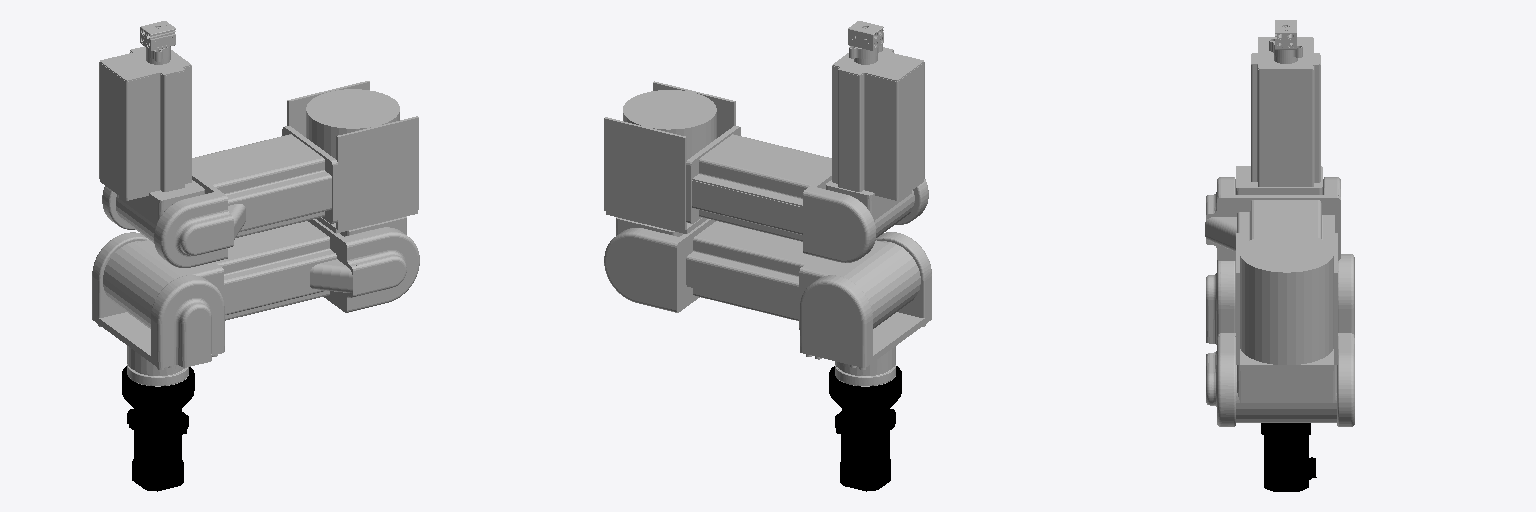
URDF robot description (cobod_arm_6dof):
<?xml version="1.0" encoding="utf-8"?>
<robot
  name="cobod_arm_6dof">
  <link
    name="Link_1">
    <visual>
      <origin
        xyz="0 0 0"
        rpy="0 0 0" />
      <geometry>
        <mesh
          filename="package://cobod_arm_study/meshes/cobod_arm_6DOF/Link_1.STL" />
      </geometry>
      <material
        name="">
        <color
          rgba="0 0 0 1" />
      </material>
    </visual>
    <collision>
      <origin
        xyz="0 0 0"
        rpy="0 0 0" />
      <geometry>
        <mesh
          filename="package://cobod_arm_study/meshes/cobod_arm_6DOF/Link_1.STL" />
      </geometry>
    </collision>
  </link>
  <link
    name="Link_2">
    <inertial>
      <origin
        xyz="-7.83279842325735E-06 -0.0127760100856397 0.118732654083756"
        rpy="0 0 0" />
      <mass
        value="7.36241775873832" />
      <inertia
        ixx="0.0334729981948421"
        ixy="1.15960581221495E-07"
        ixz="-3.25719911370062E-07"
        iyy="0.0318195208402152"
        iyz="-0.000113311466733358"
        izz="0.0380550573667268" />
    </inertial>
    <visual>
      <origin
        xyz="0 0 0"
        rpy="0 0 0" />
      <geometry>
        <mesh
          filename="package://cobod_arm_study/meshes/cobod_arm_6DOF/Link_2.STL" />
      </geometry>
      <material
        name="">
        <color
          rgba="0.752941176470588 0.752941176470588 0.752941176470588 1" />
      </material>
    </visual>
    <collision>
      <origin
        xyz="0 0 0"
        rpy="0 0 0" />
      <geometry>
        <mesh
          filename="package://cobod_arm_study/meshes/cobod_arm_6DOF/Link_2.STL" />
      </geometry>
    </collision>
  </link>
  <joint
    name="Joint_1"
    type="revolute">
    <origin
      xyz="0 0 0.3391"
      rpy="0 0 0" />
    <parent
      link="Link_1" />
    <child
      link="Link_2" />
    <axis
      xyz="0 0 1" />
    <limit
      lower="-3.14159"
      upper="3.14159"
      effort="30"
      velocity="1.0" />
  </joint>
  <link
    name="Link_3">
    <inertial>
      <origin
        xyz="0.23502 -0.0040139 7.212E-05"
        rpy="0 0 0" />
      <mass
        value="28.605" />
      <inertia
        ixx="0.22406"
        ixy="-0.00022136"
        ixz="1.9312E-07"
        iyy="0.22626"
        iyz="-0.00021886"
        izz="0.31856" />
    </inertial>
    <visual>
      <origin
        xyz="0 0 0"
        rpy="0 0 0" />
      <geometry>
        <mesh
          filename="package://cobod_arm_study/meshes/cobod_arm_6DOF/Link_3.STL" />
      </geometry>
      <material
        name="">
        <color
          rgba="0.75294 0.75294 0.75294 1" />
      </material>
    </visual>
    <collision>
      <origin
        xyz="0 0 0"
        rpy="0 0 0" />
      <geometry>
        <mesh
          filename="package://cobod_arm_study/meshes/cobod_arm_6DOF/Link_3.STL" />
      </geometry>
    </collision>
  </link>
  <joint
    name="Joint_2"
    type="revolute">
    <origin
      xyz="0 0 0.2005"
      rpy="0 0 0" />
    <parent
      link="Link_2" />
    <child
      link="Link_3" />
    <axis
      xyz="0 1 0" />
    <limit
      lower="-2.61799"
      upper="0"
      effort="10"
      velocity="1.0" />
  </joint>
  <link
    name="Link_4">
    <inertial>
      <origin
        xyz="-1.4591E-08 0.001966 0.013983"
        rpy="0 0 0" />
      <mass
        value="10.074" />
      <inertia
        ixx="0.11261"
        ixy="-4.6742E-08"
        ixz="-5.0482E-10"
        iyy="0.051007"
        iyz="6.8893E-09"
        izz="0.10897" />
    </inertial>
    <visual>
      <origin
        xyz="0 0 0"
        rpy="0 0 0" />
      <geometry>
        <mesh
          filename="package://cobod_arm_study/meshes/cobod_arm_6DOF/Link_4.STL" />
      </geometry>
      <material
        name="">
        <color
          rgba="0.75294 0.75294 0.75294 1" />
      </material>
    </visual>
    <collision>
      <origin
        xyz="0 0 0"
        rpy="0 0 0" />
      <geometry>
        <mesh
          filename="package://cobod_arm_study/meshes/cobod_arm_6DOF/Link_4.STL" />
      </geometry>
    </collision>
  </link>
  <joint
    name="Joint_3"
    type="revolute">
    <origin
      xyz="0.585 0 0"
      rpy="0 0 0" />
    <parent
      link="Link_3" />
    <child
      link="Link_4" />
    <axis
      xyz="0 1 0" />
    <limit
      lower="0"
      upper="3.14159"
      effort="8"
      velocity="1.0" />
  </joint>
  <link
    name="Link_5">
    <inertial>
      <origin
        xyz="-0.19694 -0.0075129 0.12929"
        rpy="0 0 0" />
      <mass
        value="32.009" />
      <inertia
        ixx="0.25201"
        ixy="0.00014911"
        ixz="-1.4091E-09"
        iyy="0.31685"
        iyz="0.00021879"
        izz="0.30494" />
    </inertial>
    <visual>
      <origin
        xyz="0 0 0"
        rpy="0 0 0" />
      <geometry>
        <mesh
          filename="package://cobod_arm_study/meshes/cobod_arm_6DOF/Link_5.STL" />
      </geometry>
      <material
        name="">
        <color
          rgba="0.75294 0.75294 0.75294 1" />
      </material>
    </visual>
    <collision>
      <origin
        xyz="0 0 0"
        rpy="0 0 0" />
      <geometry>
        <mesh
          filename="package://cobod_arm_study/meshes/cobod_arm_6DOF/Link_5.STL" />
      </geometry>
    </collision>
  </link>
  <joint
    name="Joint_4"
    type="revolute">
    <origin
      xyz="0 0.0019673 0.107"
      rpy="0 0 0" />
    <parent
      link="Link_4" />
    <child
      link="Link_5" />
    <axis
      xyz="0 0 1" />
    <limit
      lower="-3.14159"
      upper="3.14159"
      effort="6"
      velocity="1.0" />
  </joint>
  <link
    name="Link_6">
    <inertial>
      <origin
        xyz="-0.0225 -0.0092568 0.17444"
        rpy="0 0 0" />
      <mass
        value="16.529" />
      <inertia
        ixx="0.16805"
        ixy="-2.3455E-05"
        ixz="1.2694E-09"
        iyy="0.14815"
        iyz="-7.2441E-09"
        izz="0.10397" />
    </inertial>
    <visual>
      <origin
        xyz="0 0 0"
        rpy="0 0 0" />
      <geometry>
        <mesh
          filename="package://cobod_arm_study/meshes/cobod_arm_6DOF/Link_6.STL" />
      </geometry>
      <material
        name="">
        <color
          rgba="0.75294 0.75294 0.75294 1" />
      </material>
    </visual>
    <collision>
      <origin
        xyz="0 0 0"
        rpy="0 0 0" />
      <geometry>
        <mesh
          filename="package://cobod_arm_study/meshes/cobod_arm_6DOF/Link_6.STL" />
      </geometry>
    </collision>
  </link>
  <joint
    name="Joint_5"
    type="revolute">
    <origin
      xyz="-0.585 0 0.122"
      rpy="0 0 0" />
    <parent
      link="Link_5" />
    <child
      link="Link_6" />
    <axis
      xyz="0 1 0" />
    <limit
      lower="-2.61799"
      upper="0"
      effort="4"
      velocity="1.0" />
  </joint>
  <link
    name="Gripper_base">
    <inertial>
      <origin
        xyz="-4.305E-06 0.0005579 0.044226"
        rpy="0 0 0" />
      <mass
        value="0.28869" />
      <inertia
        ixx="0.00012313"
        ixy="-8.8747E-06"
        ixz="1.1977E-07"
        iyy="0.00013954"
        iyz="-2.1242E-06"
        izz="0.0002004" />
    </inertial>
    <visual>
      <origin
        xyz="0 0 0"
        rpy="0 0 0" />
      <geometry>
        <mesh
          filename="package://cobod_arm_study/meshes/cobod_arm_6DOF/Gripper_base.STL" />
      </geometry>
      <material
        name="">
        <color
          rgba="0.75294 0.75294 0.75294 1" />
      </material>
    </visual>
    <collision>
      <origin
        xyz="0 0 0"
        rpy="0 0 0" />
      <geometry>
        <mesh
          filename="package://cobod_arm_study/meshes/cobod_arm_6DOF/Gripper_base.STL" />
      </geometry>
    </collision>
  </link>
  <joint
    name="Joint_6"
    type="revolute">
    <origin
      xyz="0 -0.0029673 0.4354"
      rpy="0 0 0" />
    <parent
      link="Link_6" />
    <child
      link="Gripper_base" />
    <axis
      xyz="0 0 1" />
     <limit
      lower="-1.5707963268"
      upper="1.5707963268"
      effort="4"
      velocity="1.0" />
  </joint>
    <gazebo reference="Link_1">
    <material>Gazebo/Black</material>
  </gazebo>

  
<!--######################################################################-->
  <gazebo>
    <plugin name="gazebo_ros_control" filename="libgazebo_ros_control.so">
      <robotNamespace>/</robotNamespace>
      <controlPeriod>0.001</controlPeriod>
      <legacyModeNS>false</legacyModeNS>
    </plugin>
  </gazebo>

<!--######################################################################-->
  <gazebo>
    <plugin name="joint_state_publisher" filename="libgazebo_ros_joint_state_publisher.so">
      <jointName>Joint_1, Joint_2, Joint_3, Joint_4, Joint_5, Joint_6</jointName>
    </plugin>
  </gazebo>

</robot>

--- Render facts (derived) ---
The picture shows the robot from 3 angles, left to right: view 1: azimuth 30°, elevation 25°; view 2: azimuth 150°, elevation 25°; view 3: azimuth 270°, elevation 25°; orthographic projection.
Robot: cobod_arm_6dof — 7 links, 6 joints (6 revolute); root link Link_1; default pose: all joints at 0.
Links seen in each view (by area): view 1: Link_5, Link_3, Link_6, Link_2, Link_1, Gripper_base; view 2: Link_5, Link_3, Link_6, Link_2, Link_1, Gripper_base; view 3: Link_5, Link_6, Link_4, Link_3, Link_2, Link_1, Gripper_base.
Boxes of the visible links, x1,y1,x2,y2 form: Link_5: [102, 81, 418, 267]; Link_3: [103, 219, 419, 328]; Link_6: [99, 46, 204, 242]; Link_2: [92, 232, 224, 386]; Link_1: [122, 366, 194, 491]; Gripper_base: [140, 21, 175, 64]; Link_5: [604, 81, 928, 262]; Link_3: [604, 219, 920, 329]; Link_6: [826, 47, 924, 237]; Link_2: [800, 232, 931, 386]; Link_1: [829, 366, 901, 491]; Gripper_base: [848, 21, 883, 64]; Link_5: [1205, 177, 1340, 370]; Link_6: [1236, 37, 1322, 194]; Link_4: [1236, 365, 1336, 422]; Link_3: [1206, 333, 1354, 426]; Link_2: [1206, 254, 1354, 344]; Link_1: [1261, 423, 1316, 491]; Gripper_base: [1269, 20, 1302, 63].
Size in the robot's own frame: 0.844 by 0.3867 by 1.3 metres.
7 mesh visuals loaded from 7 distinct referenced files (7 binary STL).
